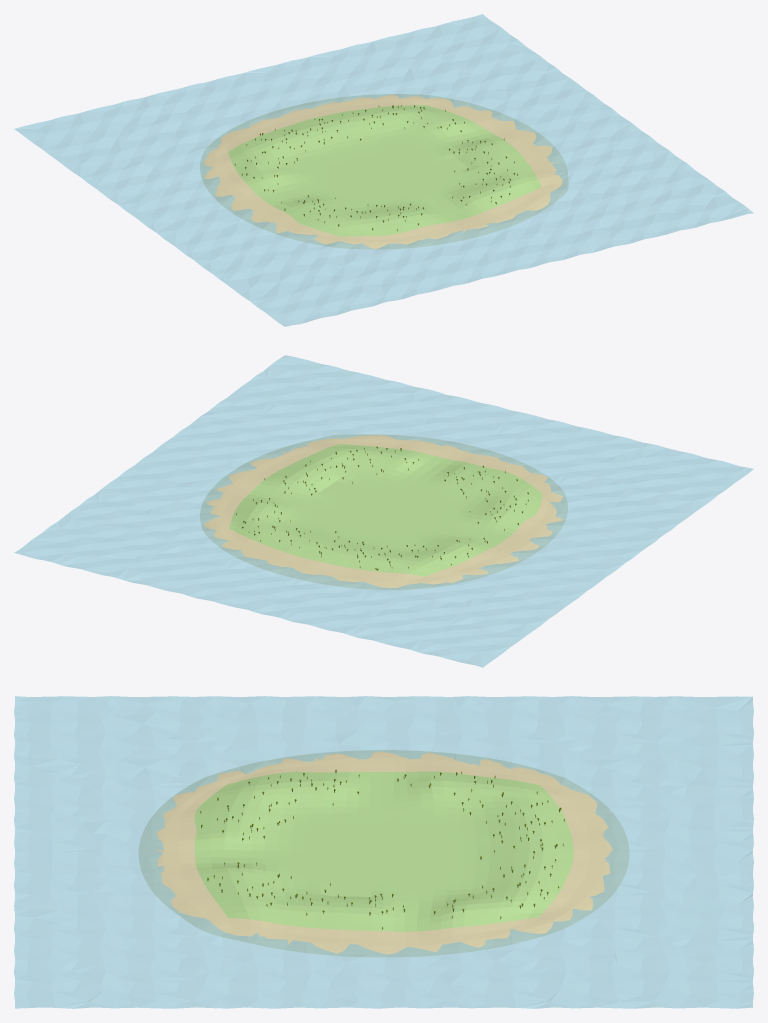
File: IslandWithTrees.glb
3 views of the same model, one above another, from view 1: azimuth 30°, elevation 25°; view 2: azimuth 150°, elevation 25°; view 3: azimuth 270°, elevation 25° (orthographic). The views are drawn at different scales.
Parts seen in each view (by area): view 1: Ocean, Island, Trees; view 2: Ocean, Island, Trees; view 3: Ocean, Island, Trees.
Boxes of the visible parts, x1,y1,x2,y2 form: Ocean: [14, 14, 753, 326]; Island: [200, 94, 568, 249]; Trees: [234, 105, 518, 230]; Ocean: [14, 355, 753, 667]; Island: [200, 434, 567, 589]; Trees: [236, 446, 528, 570]; Ocean: [14, 696, 753, 1008]; Island: [139, 750, 628, 956]; Trees: [200, 769, 564, 929].
Size of what is drawn, in the model's own units: 3912 by 68.24 by 3925.
